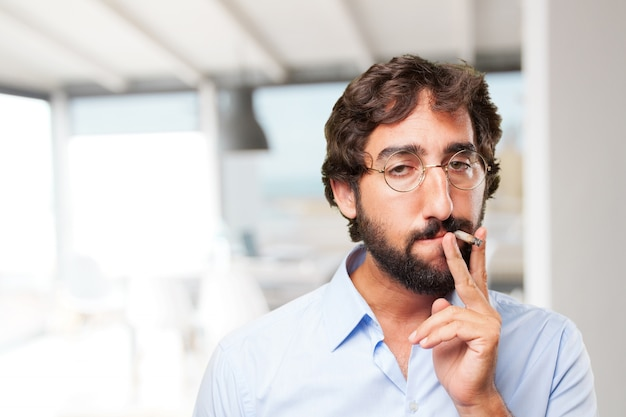cigarette: (453, 228, 482, 249)
